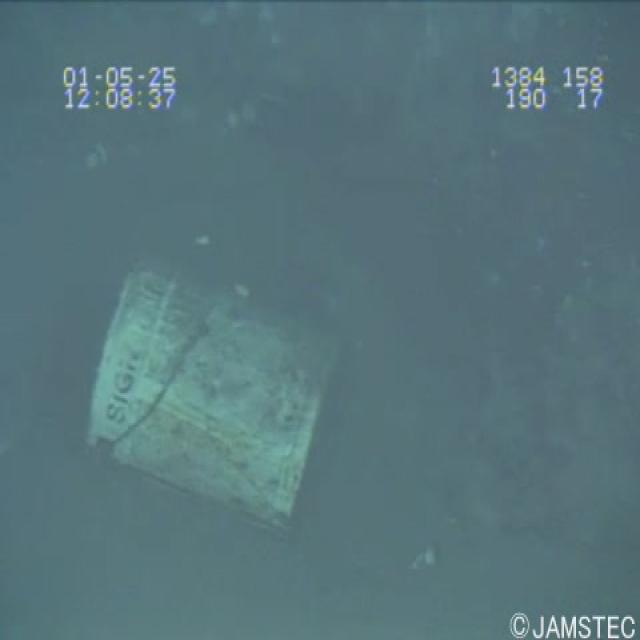plastic: (71, 240, 349, 544)
